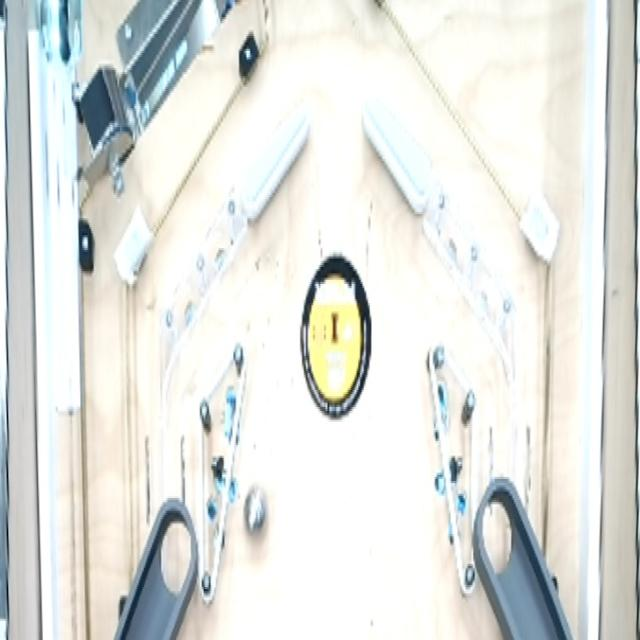ball: (242, 481, 270, 548)
flipper-left: (359, 96, 435, 233)
flipper-right: (241, 107, 313, 230)
